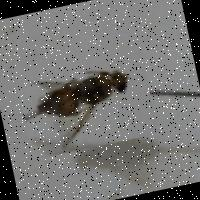Oriental-fruit-fly: (14, 43, 158, 160)
